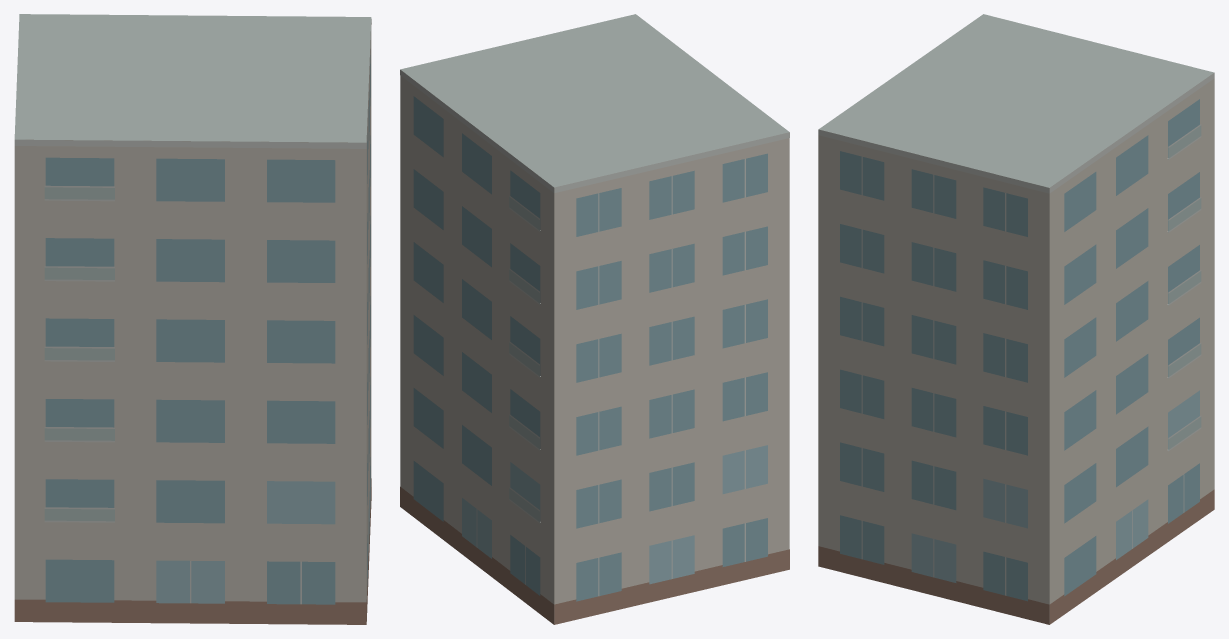
Rendered from survey-upis-32732721.glb.
3 views of the same model, side by side, from view 1: azimuth 30°, elevation 25°; view 2: azimuth 150°, elevation 25°; view 3: azimuth 270°, elevation 25° (orthographic). The views are drawn at different scales.
Visible parts, largest first — view 1: survey-upis-32732721.tmp; view 2: survey-upis-32732721.tmp; view 3: survey-upis-32732721.tmp.
Boxes of the visible parts, <box> form: survey-upis-32732721.tmp: <box>14,14,371,624</box>; survey-upis-32732721.tmp: <box>400,14,789,624</box>; survey-upis-32732721.tmp: <box>818,14,1214,624</box>.
Size of the model in its own units: 15.84 by 18.55 by 15.25.
